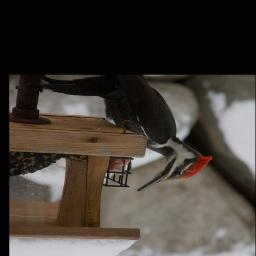Woodpecker: (31, 75, 224, 192)
